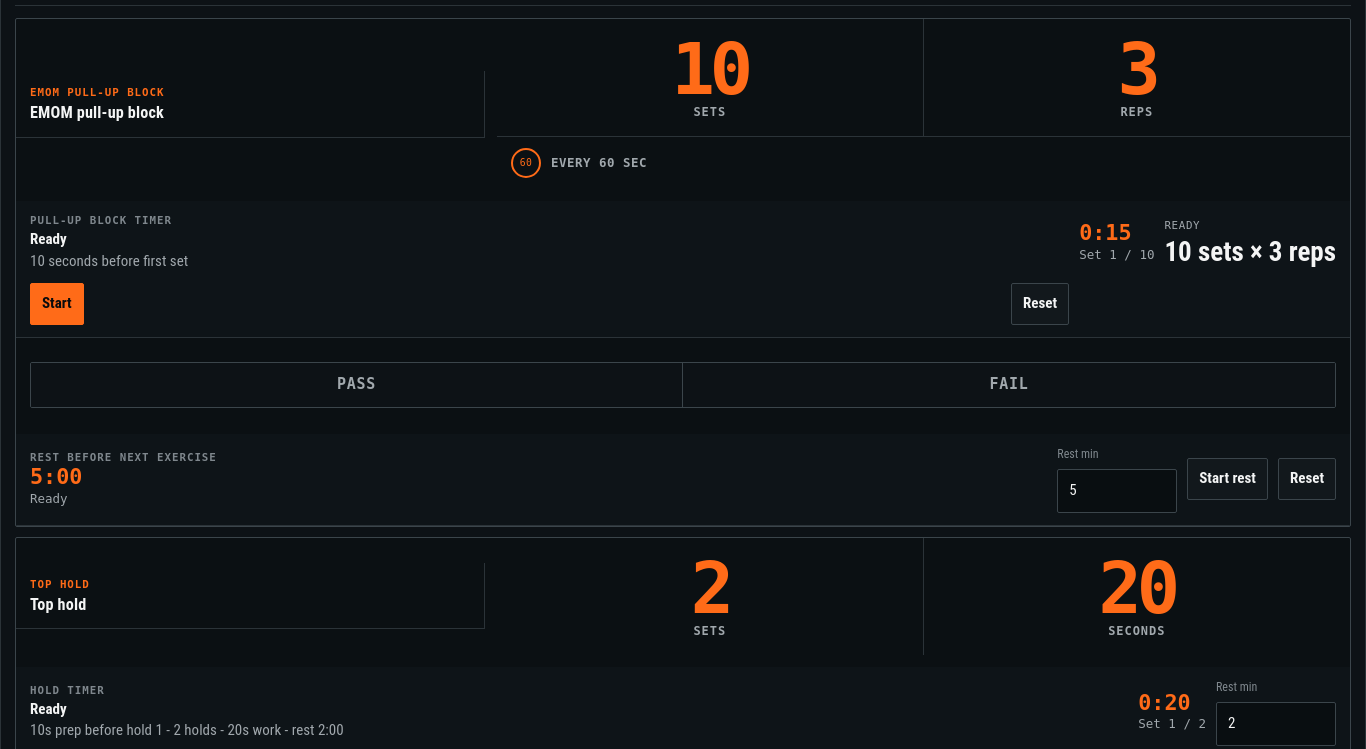
Test case: LogWorkoutScreen preset rows › starts the next-exercise rest timer when a row is marked
This screenshot has width=1366, height=749.
(page scrolled)
Expected: the button "pause rest" is not shown
What coordinates should you click on to do the following:
click the button "pass"
I would click on:
 (357, 385)
Its box is [31,363,683,407].
(page scrolled)
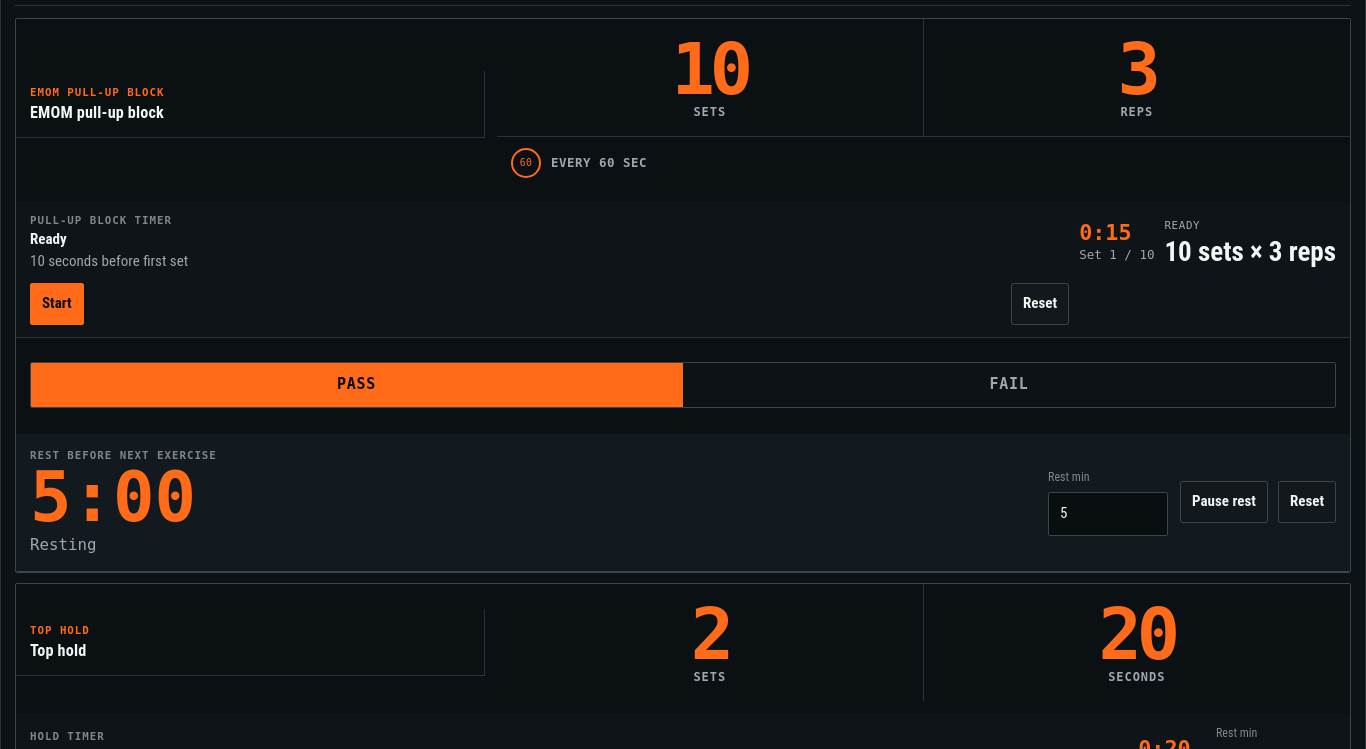
Expected: the button "Pause rest" is shown, [1180,481,1268,523]
